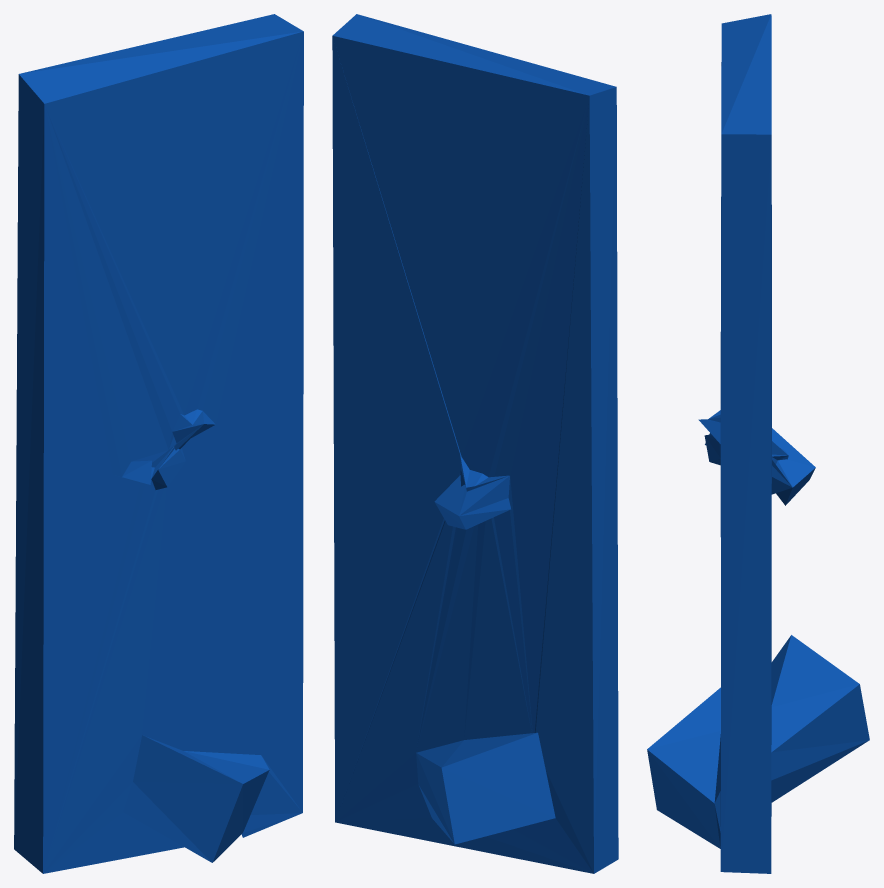
The picture shows the model from 3 angles, left to right: view 1: azimuth 30°, elevation 25°; view 2: azimuth 150°, elevation 25°; view 3: azimuth 270°, elevation 25°; orthographic projection. The views are drawn at different scales.
Visible parts, largest first — view 1: 199_Cube.825; view 2: 199_Cube.825; view 3: 199_Cube.825.
Boxes of the visible parts, bbox=[...] form: 199_Cube.825: bbox=[14, 14, 303, 873]; 199_Cube.825: bbox=[332, 14, 618, 873]; 199_Cube.825: bbox=[647, 14, 869, 873].
Size of the model in its own units: 4.23 by 12.17 by 3.28.
